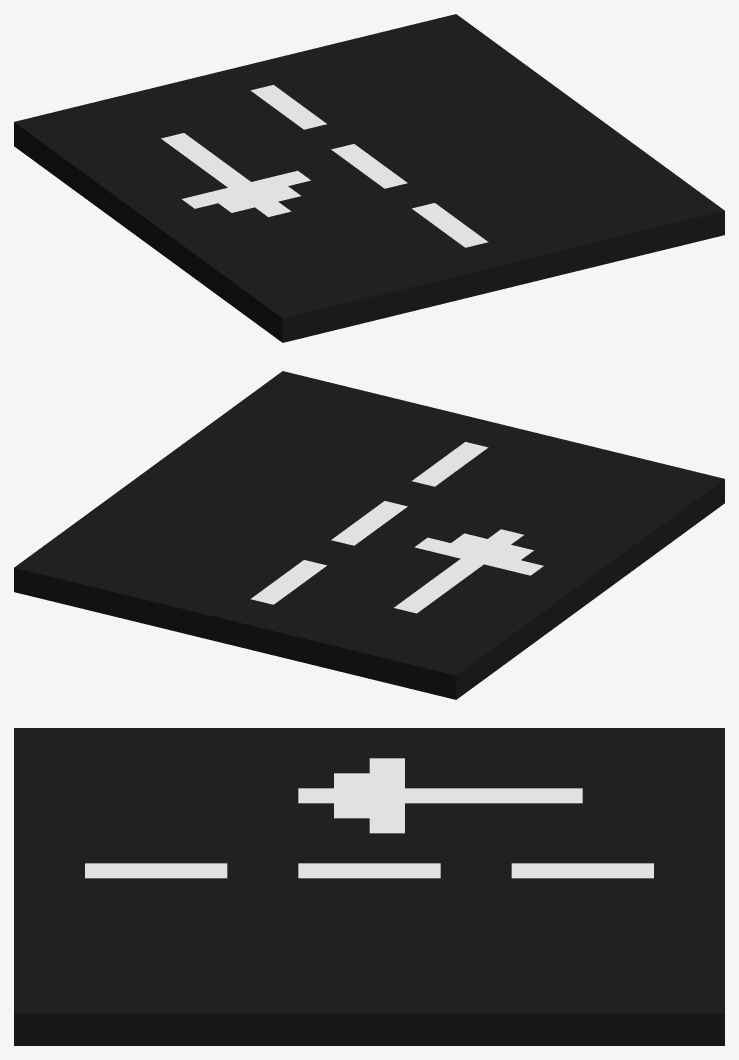
The model's file is ConstructionMaterials-67.obj.
3 views of the same model, one above another, from view 1: azimuth 30°, elevation 25°; view 2: azimuth 150°, elevation 25°; view 3: azimuth 270°, elevation 25° (orthographic). The views are drawn at different scales.
Size of the model in its own units: 1.9 by 0.1 by 2.
1 material, 1 textured.
